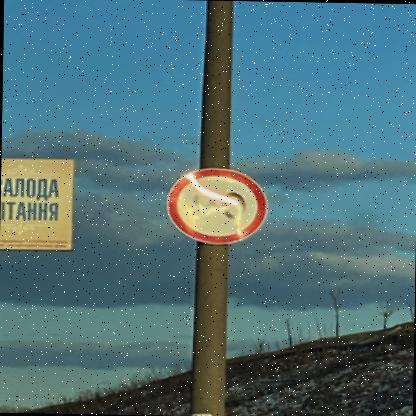speedlimit: (164, 167, 266, 244)
